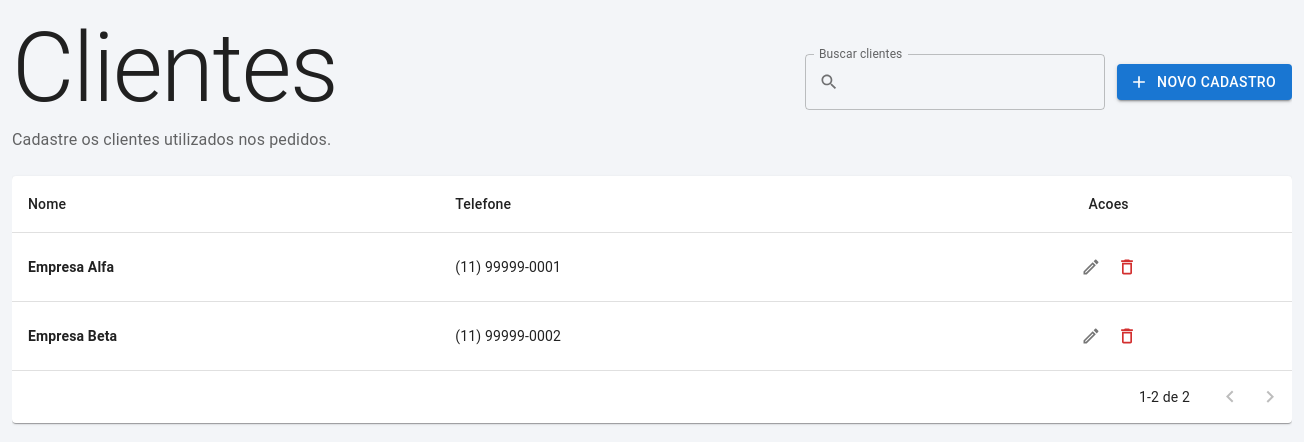
Test: ClientsPage › filtra clientes por nome e telefone
Expected: the text "Empresa Alfa" is shown, [12, 232, 439, 302]
Type "beta 0002" into the search field labelled "Buscar clientes" at (976, 82), box [847, 54, 1105, 110]
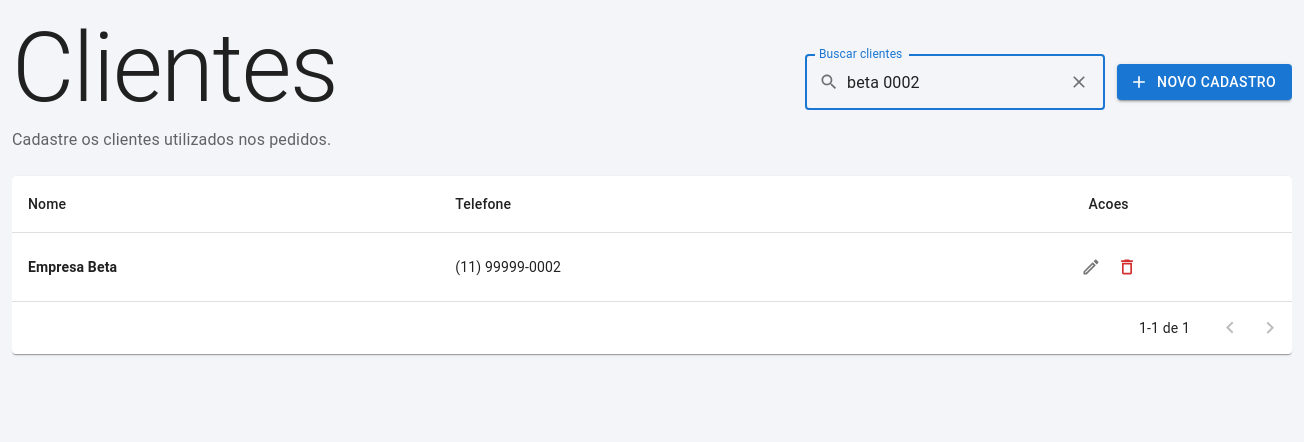
Expected: the text "Empresa Beta" is shown, [12, 232, 439, 302]
Now the text "Empresa Alfa" is gone
